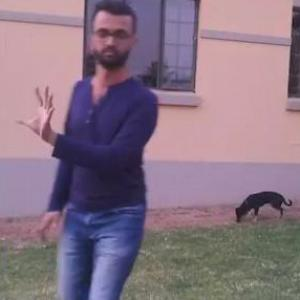follow_hand: (14, 79, 62, 138)
